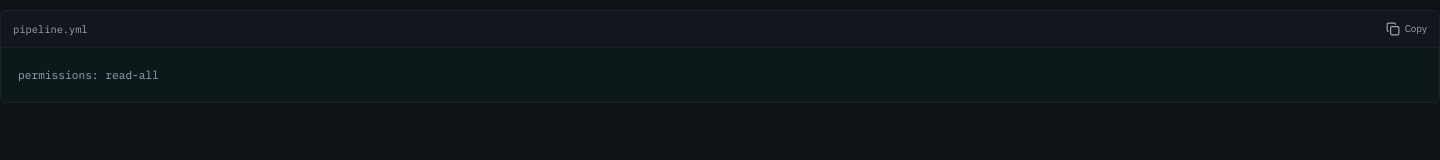
Scenario: Engineering interactions › copies configuration content and confirms success
This screenshot has width=1440, height=160.
Click the button with aria-label "Copy pipeline.yml" at (1406, 29), box [1386,21,1427,37]
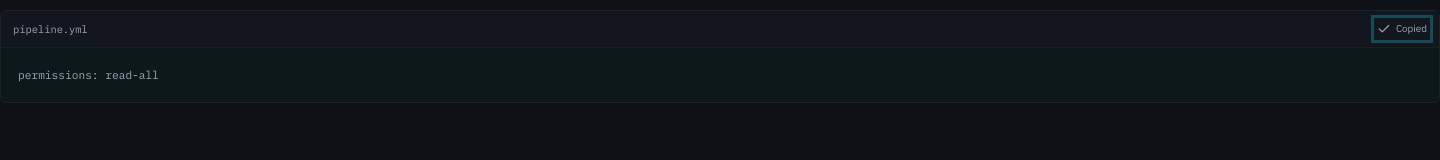
Expected: the button "Copied" is shown, [1377,21,1427,37]
